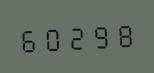eight: (110, 18, 132, 50)
nine: (87, 19, 109, 51)
six: (18, 23, 40, 54)
two: (64, 20, 86, 52)
zero: (41, 21, 63, 53)
